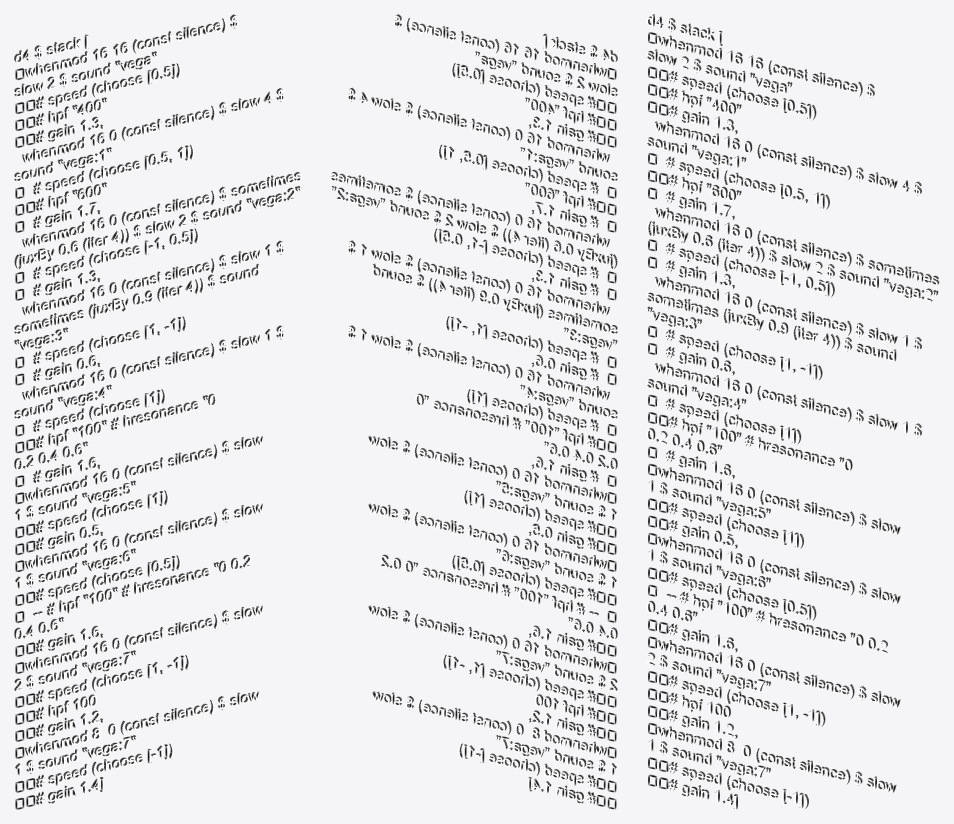
Rendered from alexandra_cardenas_code_d3.glb.
3 views of the same model, side by side, from view 1: azimuth 30°, elevation 25°; view 2: azimuth 150°, elevation 25°; view 3: azimuth 330°, elevation 25° (orthographic).
Parts seen in each view (by area): view 1: Object_3, Object_2, Object_4; view 2: Object_3, Object_2, Object_4; view 3: Object_3, Object_2, Object_4.
Boxes of the visible parts, x1=… form: Object_3: x1=14, y1=14, x2=300, y2=809; Object_2: x1=16, y1=16, x2=301, y2=808; Object_4: x1=14, y1=22, x2=299, y2=799; Object_3: x1=331, y1=14, x2=617, y2=809; Object_2: x1=330, y1=15, x2=615, y2=809; Object_4: x1=331, y1=22, x2=617, y2=798; Object_3: x1=647, y1=14, x2=939, y2=809; Object_2: x1=646, y1=15, x2=937, y2=809; Object_4: x1=648, y1=17, x2=937, y2=797.
Bounding box in the file's own units: 1.57 × 4 × 0.0188.
2 materials, 2 textured.
